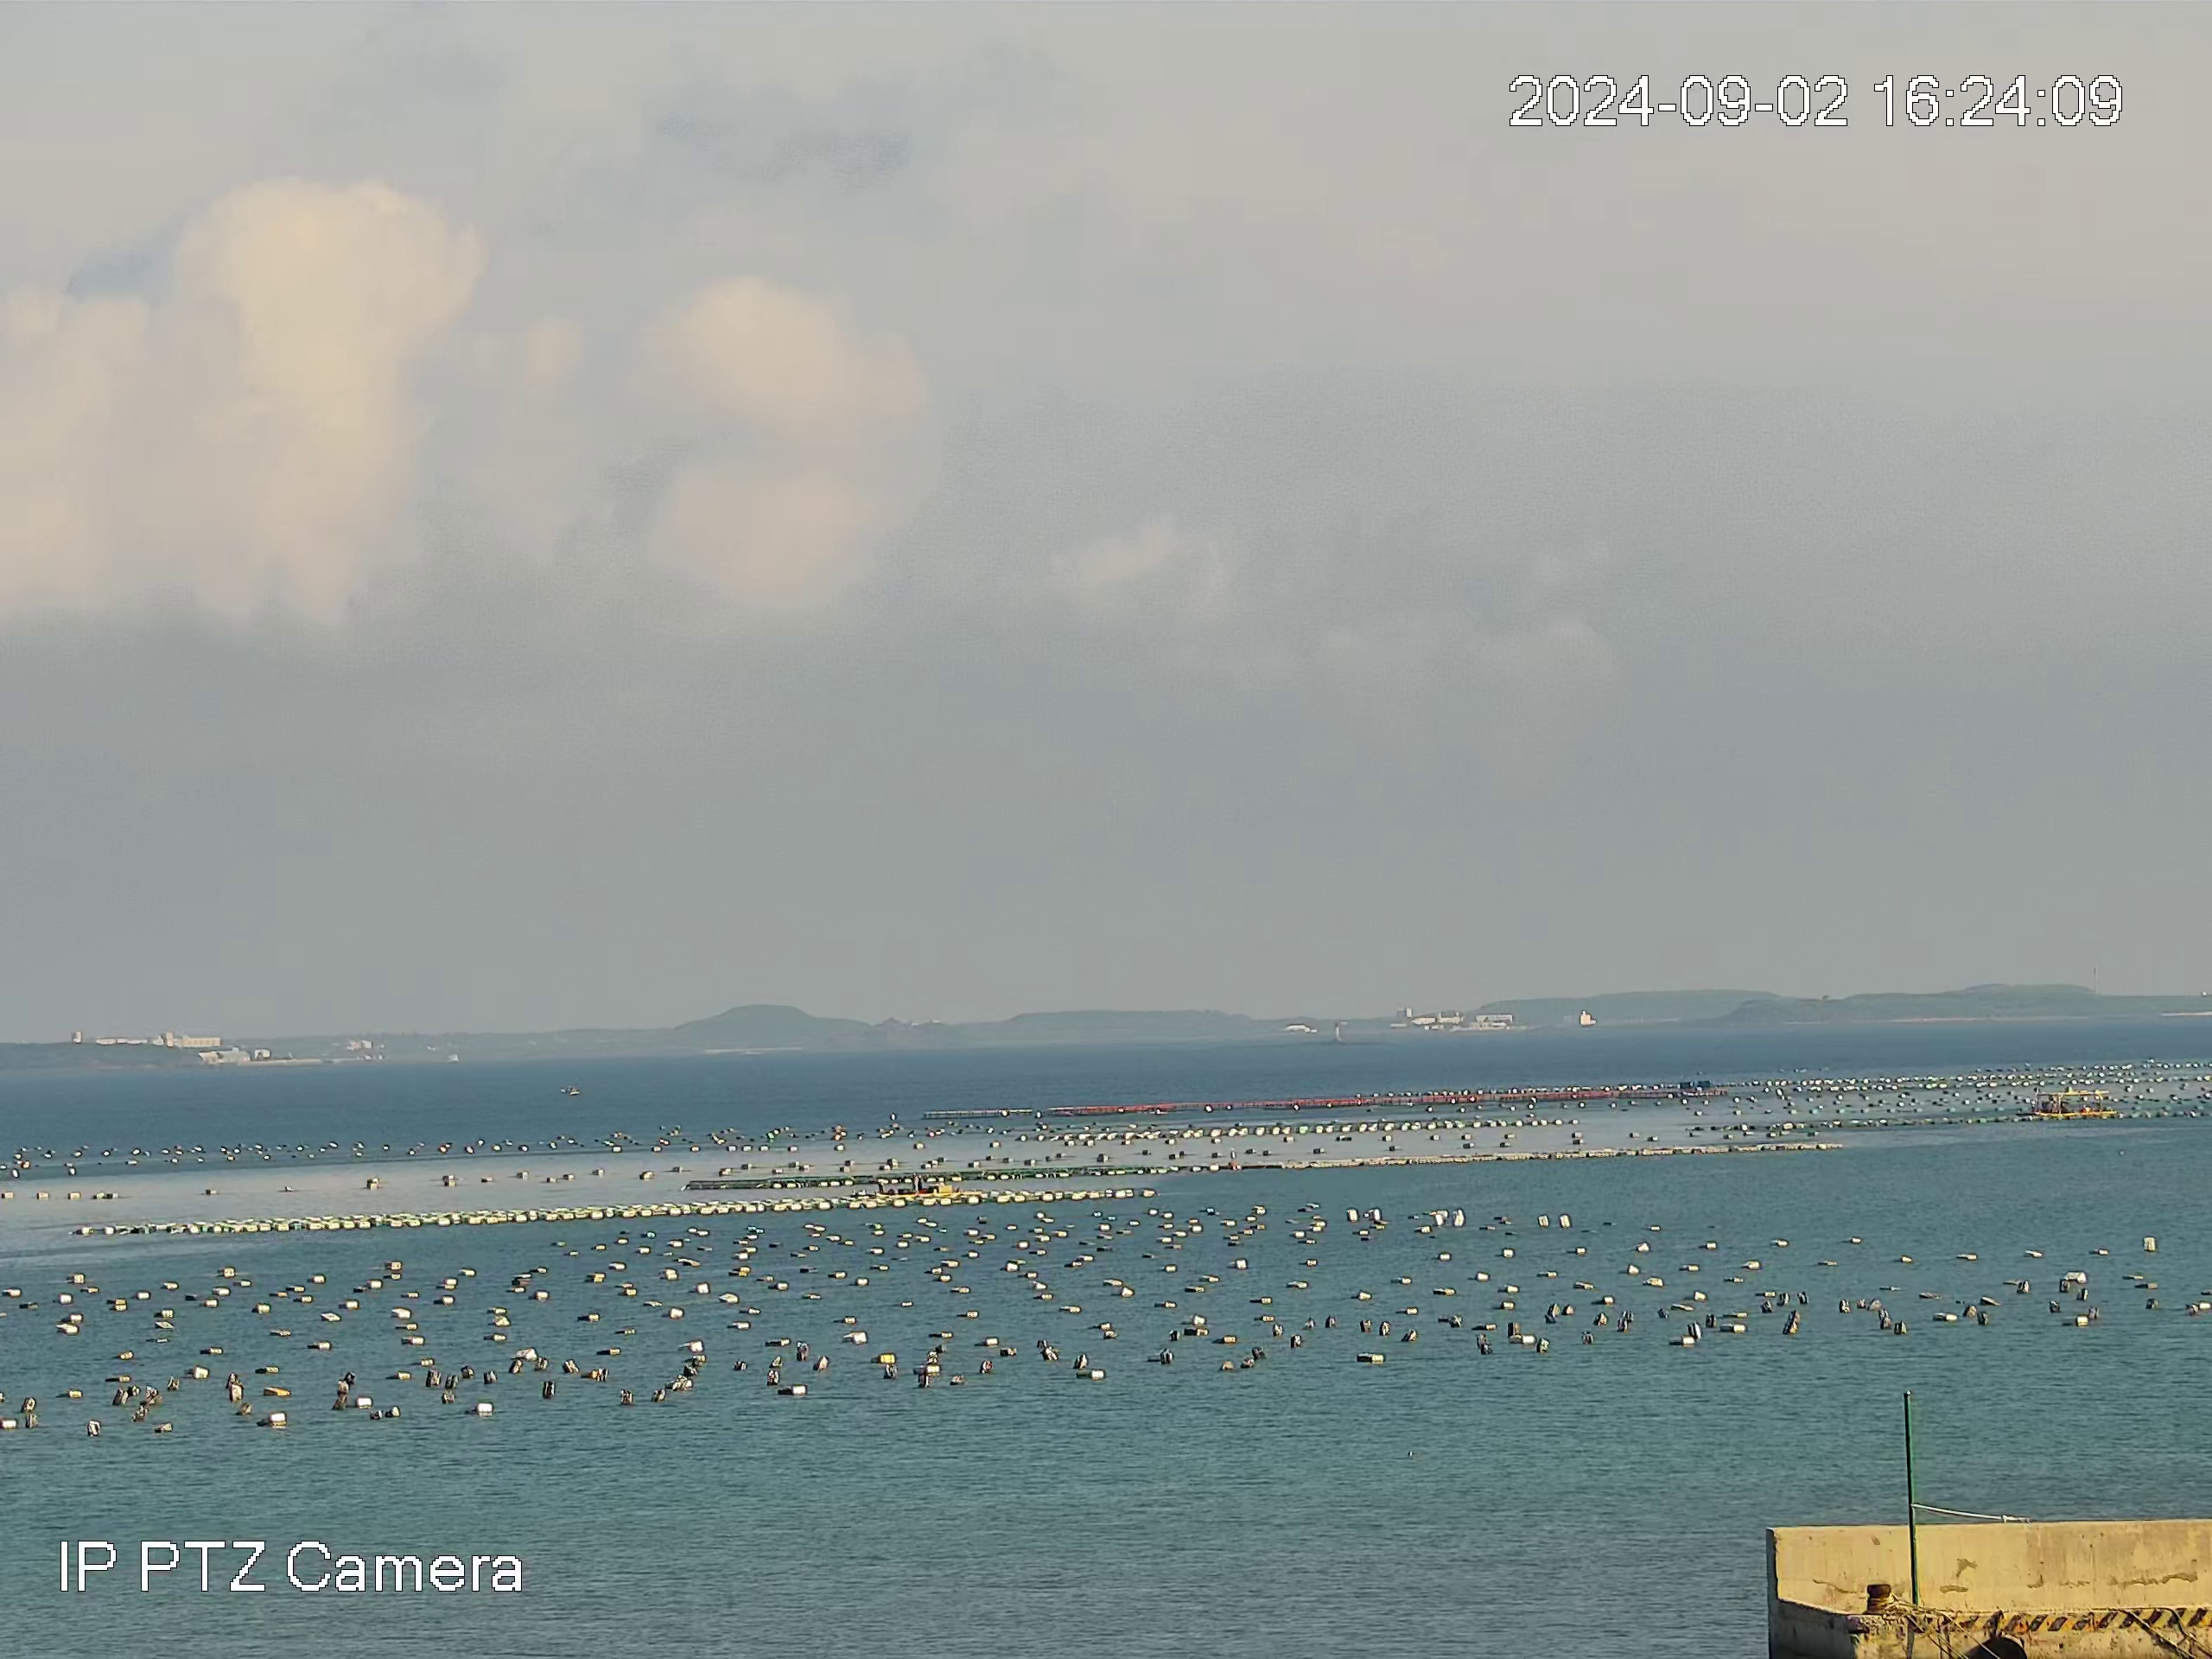boat: (874, 1173, 982, 1198), (2031, 1090, 2116, 1118)
